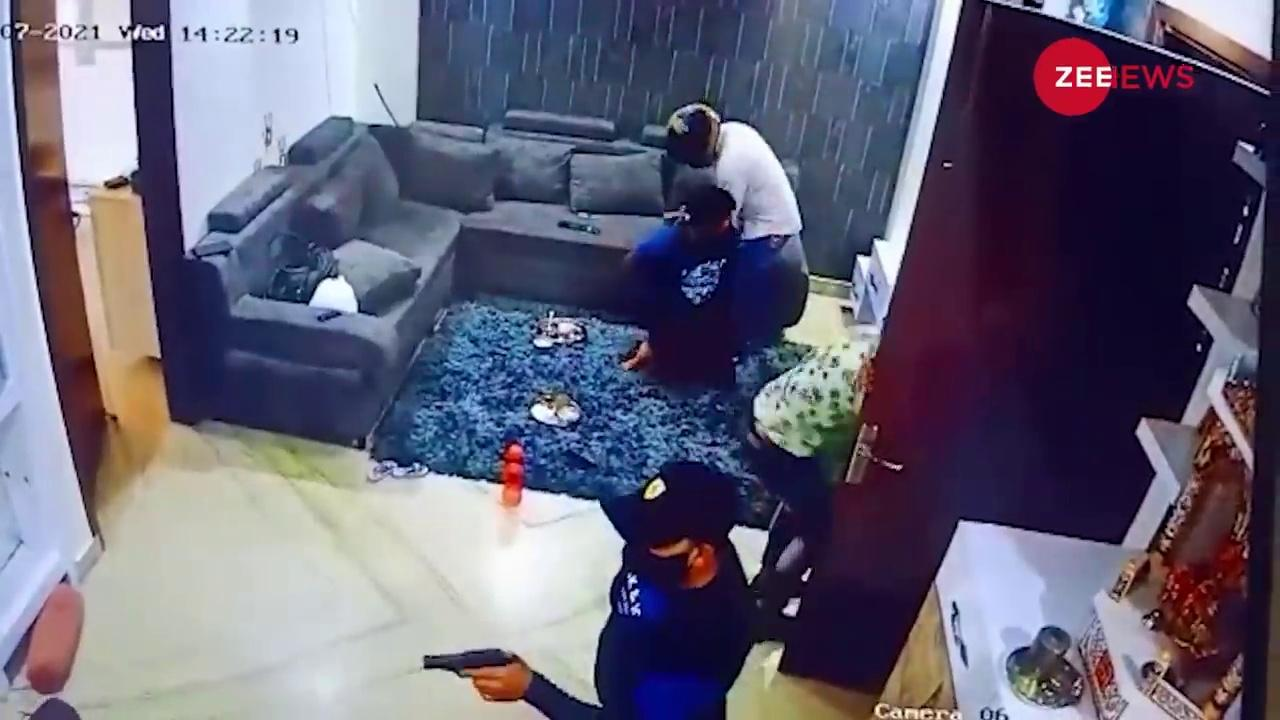weapon: (415, 645, 520, 696)
